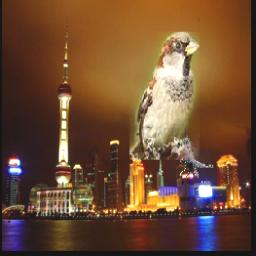Crow: (180, 135, 213, 178)
Sparrow: (129, 33, 200, 161)
